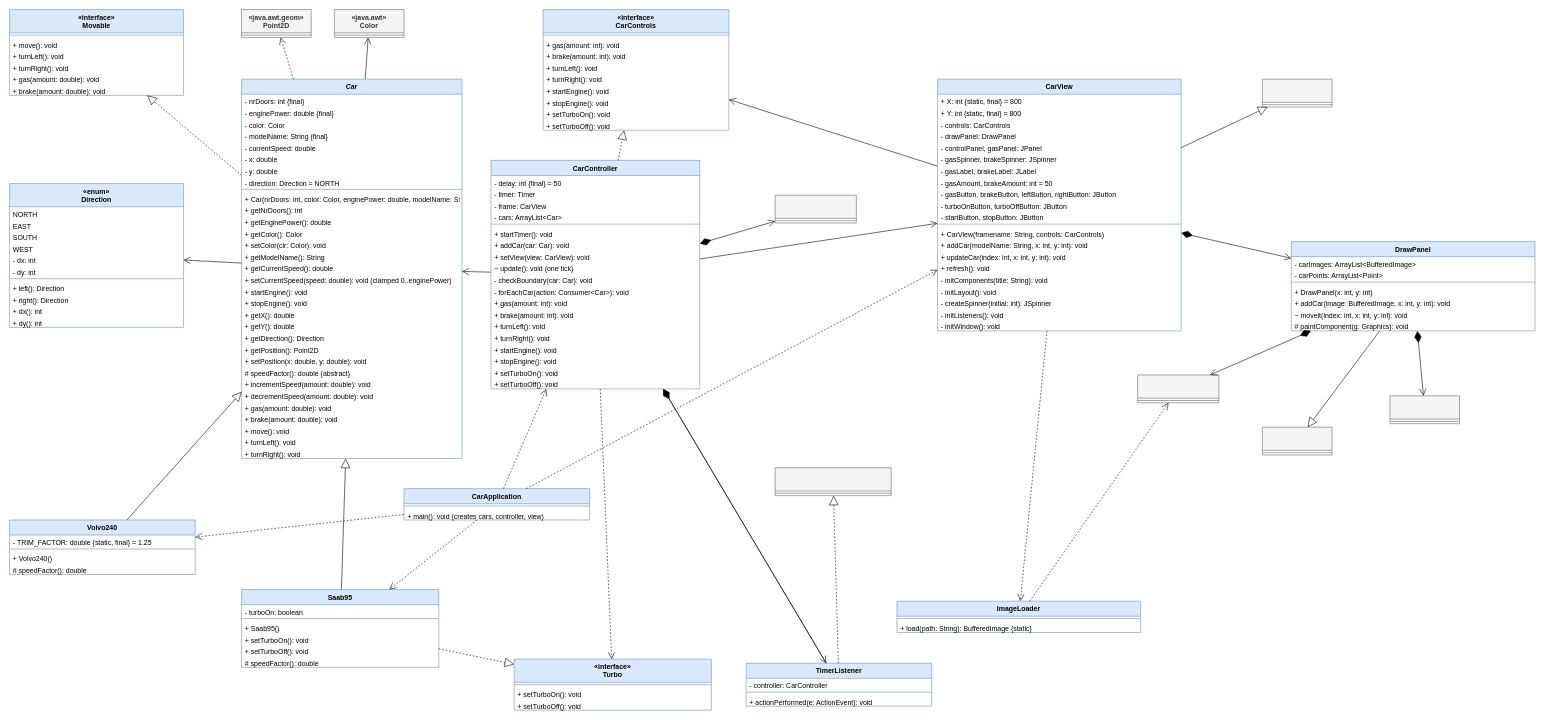
This 1545x720 diagram has some shape labels left out. The shapes that lost their labels are listed below. From the top down, each one's centre as x and y in pixels, then its label:
the point at 1297,93: «javax.swing» JFrame
the point at 815,209: «javax.swing» Timer
the point at 1178,388: «java.awt.image» BufferedImage
the point at 1424,409: «java.awt» Point
the point at 1297,441: «javax.swing» JPanel
the point at 833,481: «java.awt.event» ActionListener
